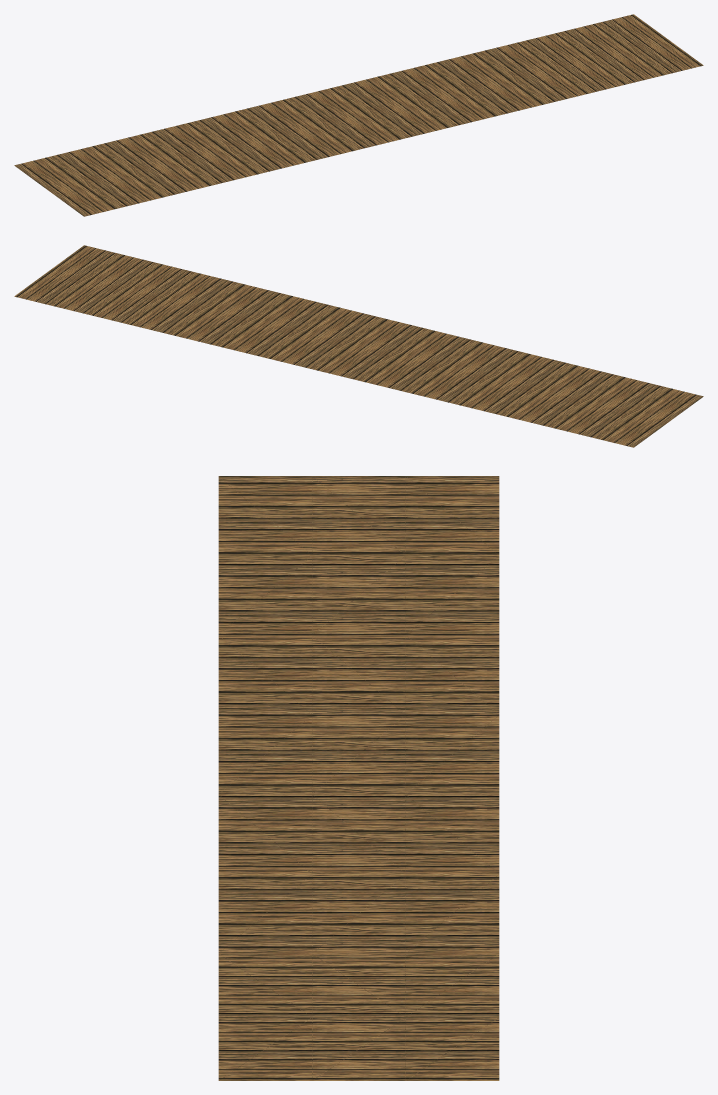
File: LAKETOWN_EXTERIOR_PS_LT_PIER_WOOD11.fbx
3 views of the same model, one above another, from view 1: azimuth 30°, elevation 25°; view 2: azimuth 150°, elevation 25°; view 3: azimuth 270°, elevation 25° (orthographic). The views are drawn at different scales.
Visible parts, largest first — view 1: LAKETOWN_EXTERIOR_PS_LT_PIER_WOOD11; view 2: LAKETOWN_EXTERIOR_PS_LT_PIER_WOOD11; view 3: LAKETOWN_EXTERIOR_PS_LT_PIER_WOOD11.
Boxes of the visible parts, left/top/right/bottom form: LAKETOWN_EXTERIOR_PS_LT_PIER_WOOD11: left=14, top=14, right=703, bottom=216; LAKETOWN_EXTERIOR_PS_LT_PIER_WOOD11: left=14, top=245, right=703, bottom=447; LAKETOWN_EXTERIOR_PS_LT_PIER_WOOD11: left=218, top=476, right=499, bottom=1080.
Bounding box in the file's own units: 254605 × 0.0123 × 49936.
1 material, 1 textured.
